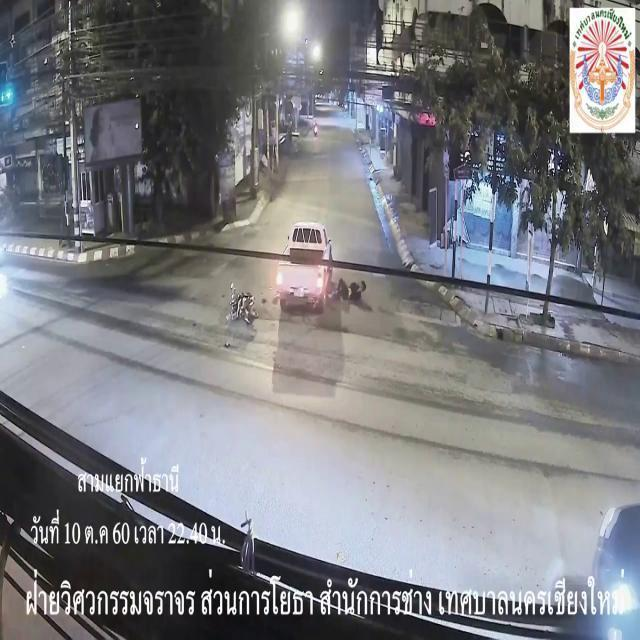accident: (224, 221, 368, 349)
